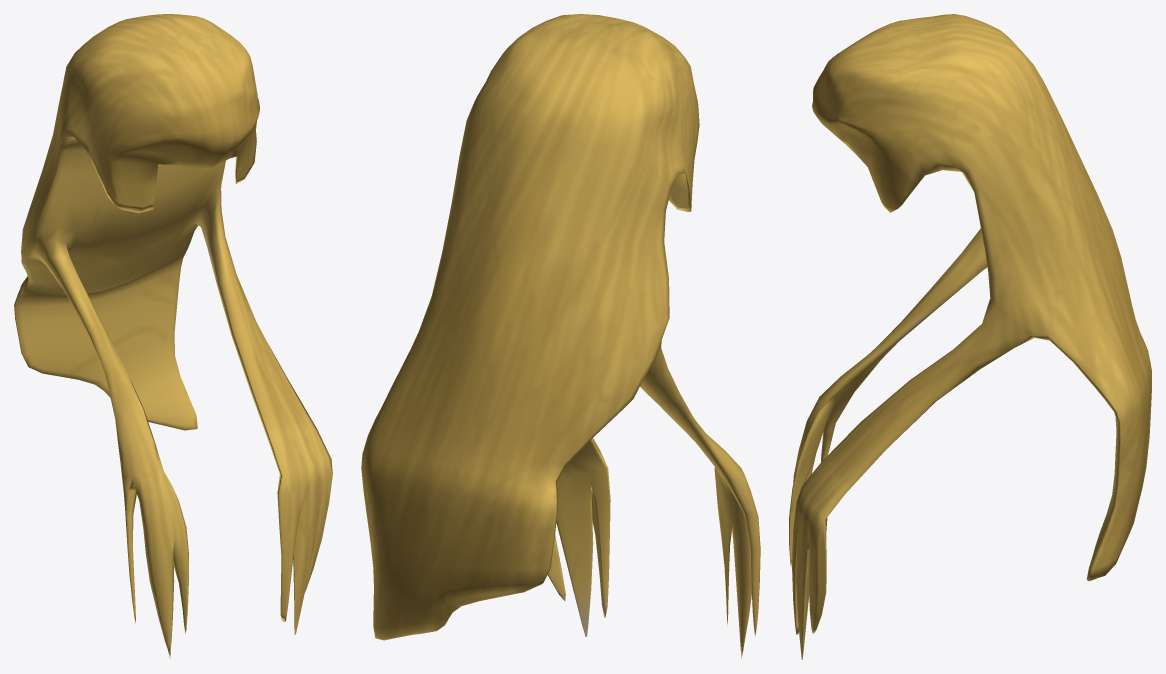
File: hair 5.fbx
3 views of the same model, side by side, from view 1: azimuth 30°, elevation 25°; view 2: azimuth 150°, elevation 25°; view 3: azimuth 270°, elevation 25° (orthographic). The views are drawn at different scales.
Parts seen in each view (by area): view 1: pasted__pSphere16; view 2: pasted__pSphere16; view 3: pasted__pSphere16.
Boxes of the visible parts, left/top/right/bottom form: pasted__pSphere16: left=14, top=14, right=332, bottom=658; pasted__pSphere16: left=361, top=14, right=760, bottom=659; pasted__pSphere16: left=789, top=14, right=1151, bottom=659.
Size of the model in its own units: 1.42 by 3.71 by 2.04.
1 material, 1 textured.
